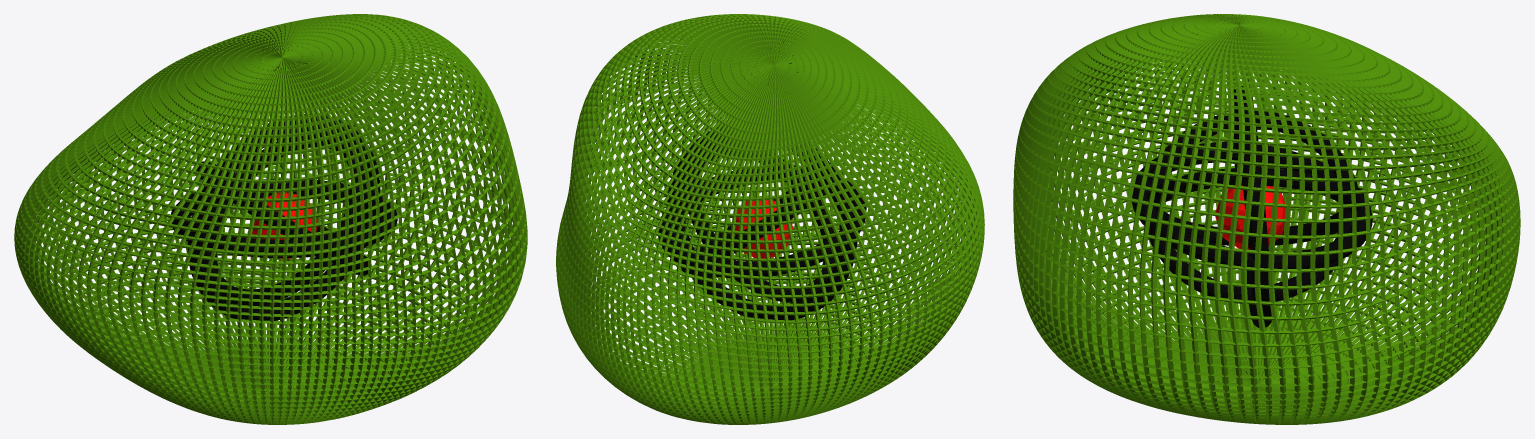
Rendered from life__Its_just_a_bush.fbx.
3 renders of one model, left to right at view 1: azimuth 30°, elevation 25°; view 2: azimuth 150°, elevation 25°; view 3: azimuth 270°, elevation 25°, orthographic. The views are drawn at different scales.
Visible parts, largest first — view 1: Sphere, Torus.002, Torus.003, Torus.001, Torus, Icosphere; view 2: Sphere, Torus.002, Torus.003, Torus.001, Torus, Icosphere; view 3: Sphere, Torus.003, Torus, Torus.001, Torus.002, Icosphere.
Boxes of the visible parts, <box> form: Sphere: <box>14,14,527,424</box>; Torus.002: <box>187,114,380,320</box>; Torus.003: <box>171,178,397,257</box>; Torus.001: <box>206,133,366,305</box>; Torus: <box>196,161,371,275</box>; Icosphere: <box>252,192,317,259</box>; Sphere: <box>556,14,984,424</box>; Torus.002: <box>667,125,857,320</box>; Torus.003: <box>658,165,866,278</box>; Torus.001: <box>684,141,835,302</box>; Torus: <box>681,173,842,274</box>; Icosphere: <box>731,200,792,258</box>; Sphere: <box>1013,14,1520,424</box>; Torus.003: <box>1132,142,1372,270</box>; Torus: <box>1148,110,1360,303</box>; Torus.001: <box>1147,168,1360,245</box>; Torus.002: <box>1233,86,1271,327</box>; Icosphere: <box>1215,185,1285,249</box>.
Size of the model in its own units: 531 by 414 by 508.
